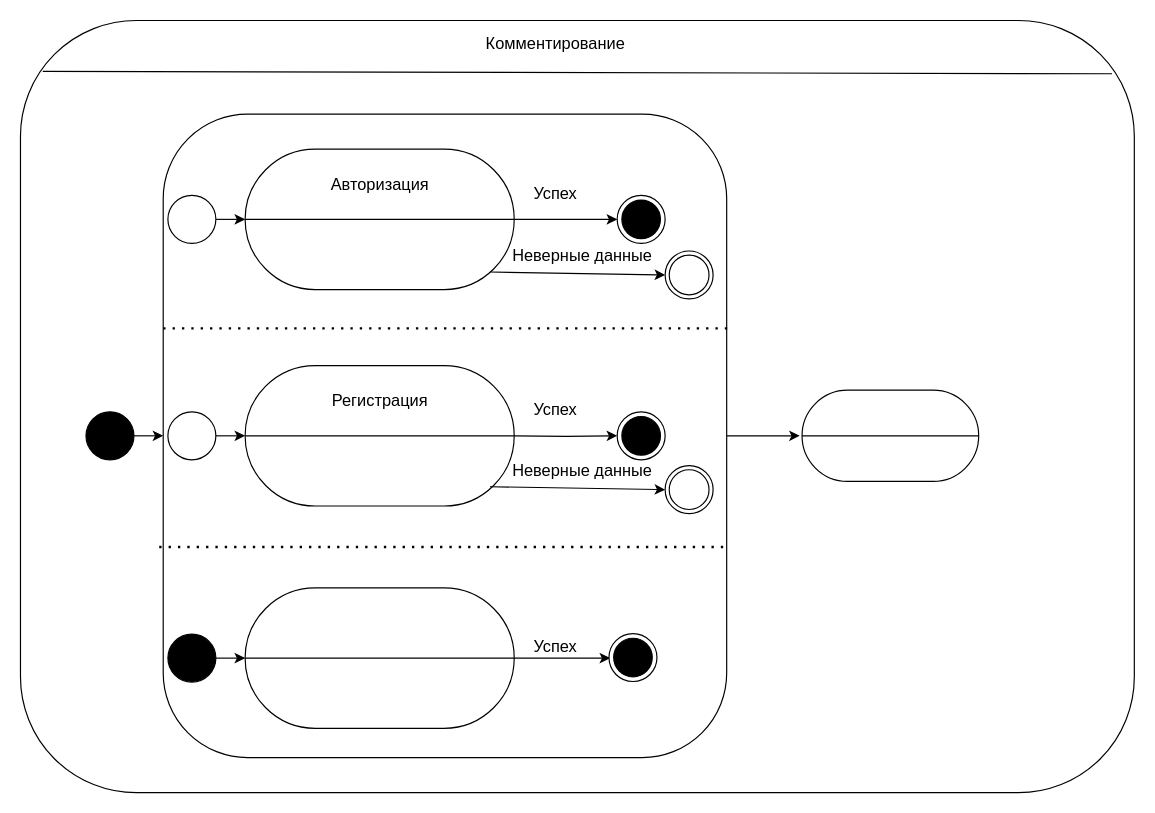
The diagram is 1155 pixels wide and 813 high, and some of its shapes have lost their labels. Each missing label, with the box of its shape:
Ввод комментария: (244, 587, 514, 728)
Публикация комментария: (801, 389, 979, 481)
